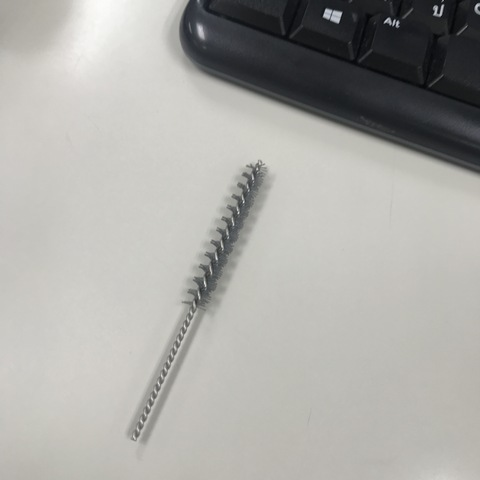Twist Brush-A: (124, 156, 276, 448)
